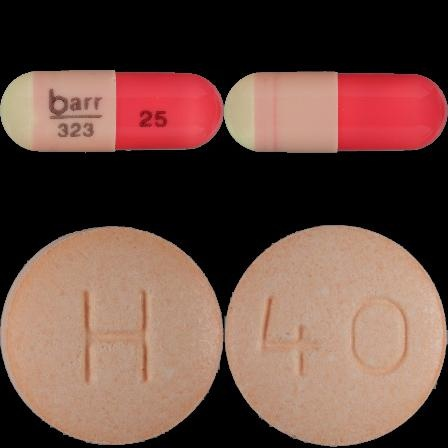35356-938: (0, 0, 224, 224)
